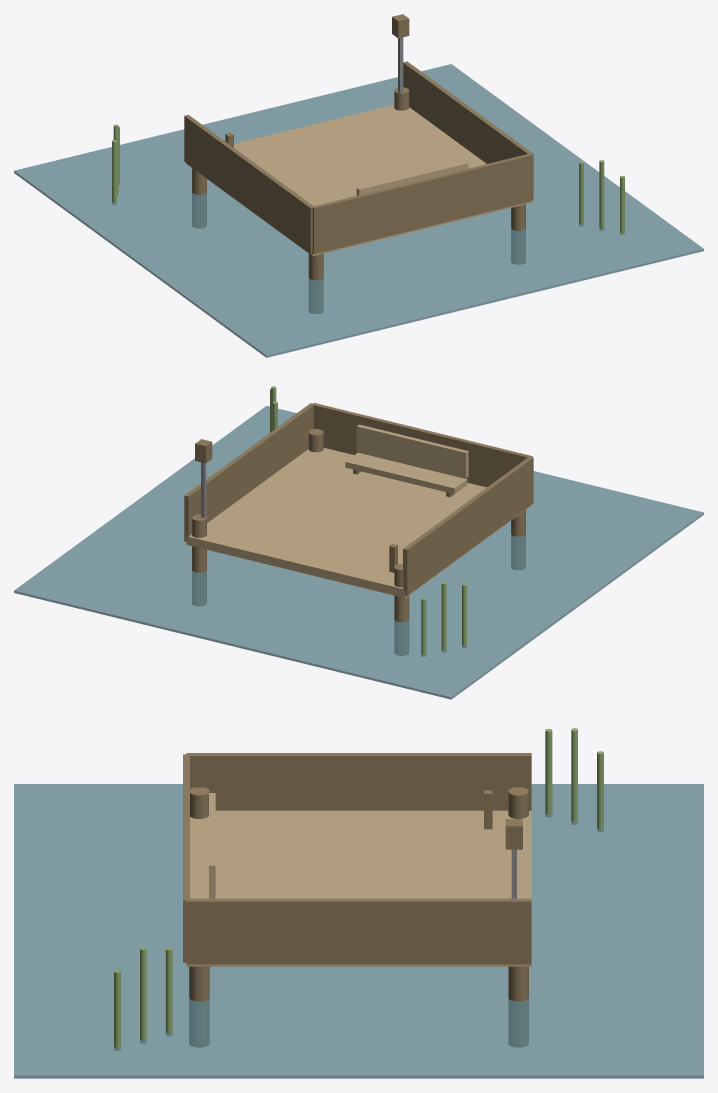
Rendered from marsh_pier.glb.
The picture shows the model from 3 angles, top to bottom: view 1: azimuth 30°, elevation 25°; view 2: azimuth 150°, elevation 25°; view 3: azimuth 270°, elevation 25°; orthographic projection. The views are drawn at different scales.
Visible parts, largest first — view 1: water, deck, rail_b, rail_l, rail_r, bench_back, pile_bl, pile_br, pile_fl; view 2: water, deck, rail_l, rail_r, rail_b, bench_back, bench_seat, pile_fr, pile_fl, pile_bl; view 3: water, deck, rail_r, rail_l, bench_seat, pile_fr, pile_br, rail_b, bench_back, reed_3, reed_6, reed_1 (+6 smaller).
Boxes of the visible parts, bbox=[...] form: water: bbox=[14, 64, 703, 357]; deck: bbox=[186, 105, 531, 256]; rail_b: bbox=[312, 153, 532, 254]; rail_l: bbox=[184, 115, 314, 253]; rail_r: bbox=[403, 61, 533, 199]; bench_back: bbox=[356, 161, 468, 195]; pile_bl: bbox=[308, 254, 323, 313]; pile_br: bbox=[511, 204, 525, 264]; pile_fl: bbox=[192, 168, 206, 228]; water: bbox=[14, 406, 703, 699]; deck: bbox=[186, 448, 531, 597]; rail_l: bbox=[403, 456, 533, 595]; rail_r: bbox=[184, 403, 314, 541]; rail_b: bbox=[313, 403, 532, 487]; bench_back: bbox=[356, 424, 468, 478]; bench_seat: bbox=[345, 452, 467, 493]; pile_fr: bbox=[192, 514, 206, 606]; pile_fl: bbox=[394, 563, 409, 655]; pile_bl: bbox=[511, 510, 525, 569]; water: bbox=[14, 784, 703, 1078]; deck: bbox=[186, 810, 531, 966]; rail_r: bbox=[186, 898, 531, 964]; rail_l: bbox=[186, 753, 531, 810]; bench_seat: bbox=[215, 830, 246, 898]; pile_fr: bbox=[508, 966, 528, 1047]; pile_br: bbox=[189, 966, 209, 1047]; rail_b: bbox=[183, 754, 189, 962]; bench_back: bbox=[209, 793, 215, 898]; reed_3: bbox=[545, 728, 552, 817]; reed_6: bbox=[165, 947, 172, 1035]; reed_1: bbox=[571, 728, 577, 824].
Bounding box in the file's own units: 8 × 2.8 × 8.
